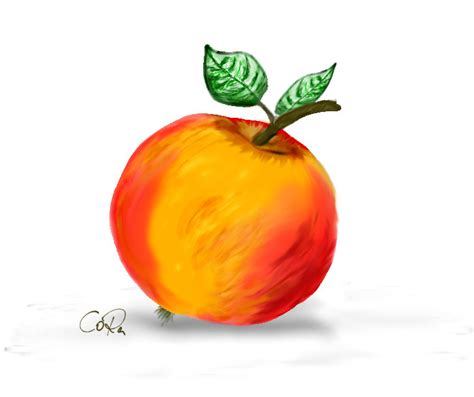apple: (106, 110, 343, 329)
